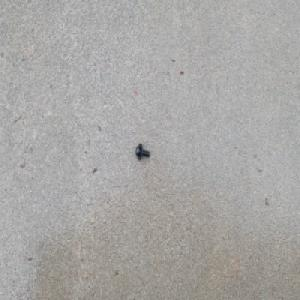BoltWasher: (134, 143, 150, 161)
